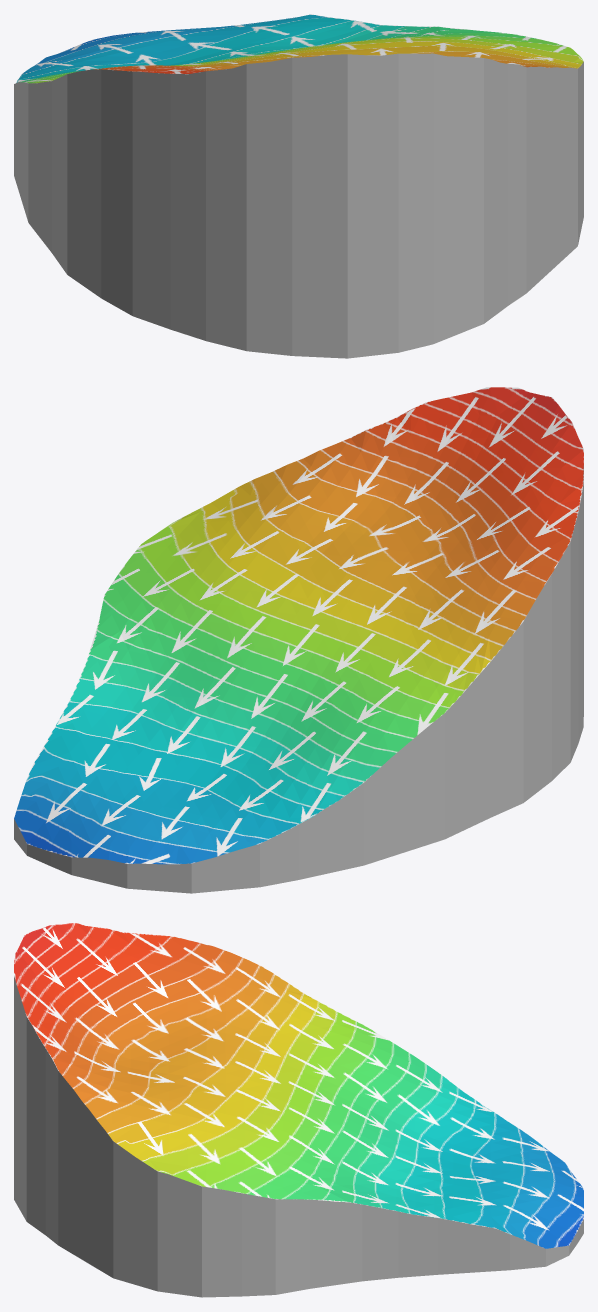
3 renders of one model, top to bottom at view 1: azimuth 30°, elevation 25°; view 2: azimuth 150°, elevation 25°; view 3: azimuth 270°, elevation 25°, orthographic. The views are drawn at different scales.
Size of the model in its own units: 3.85 by 2.42 by 5.32.
Materials: 2 (1 with a texture image).
